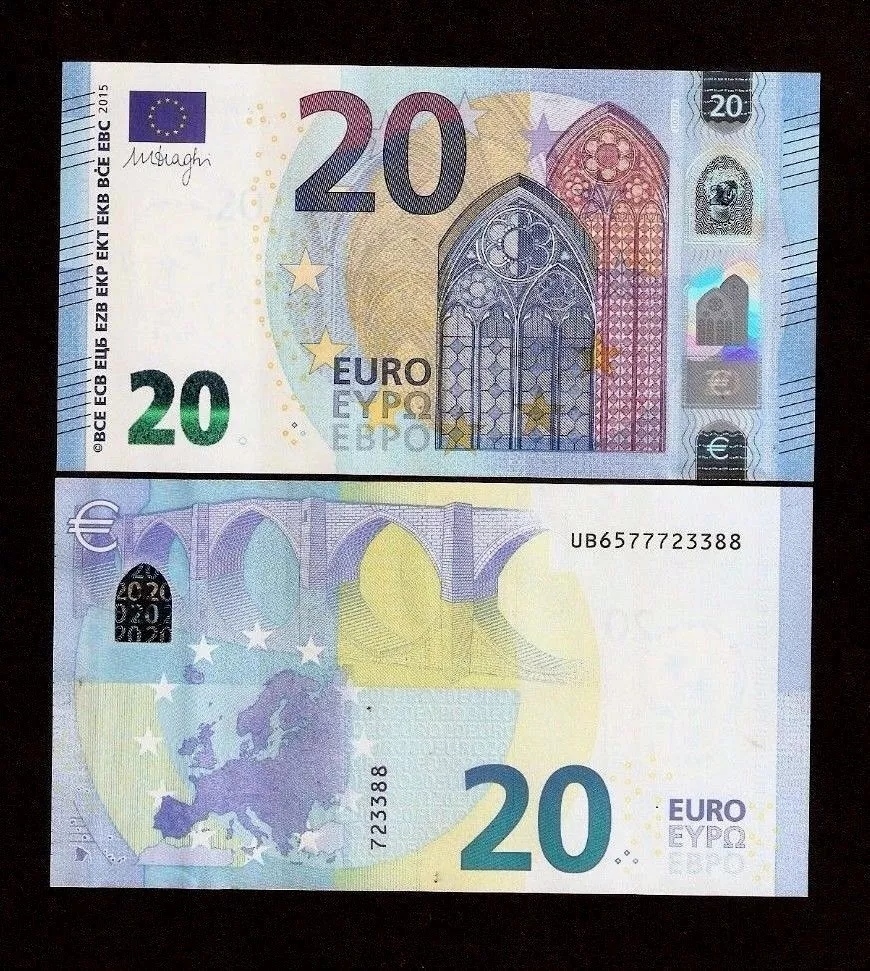Nota de 20€: (42, 44, 834, 482)
